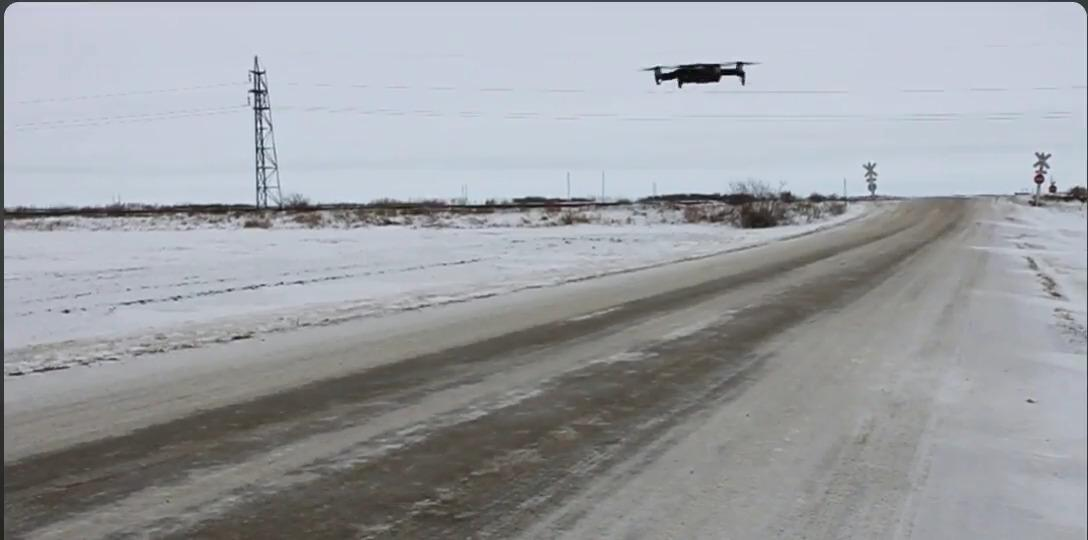dr: (623, 28, 770, 118)
